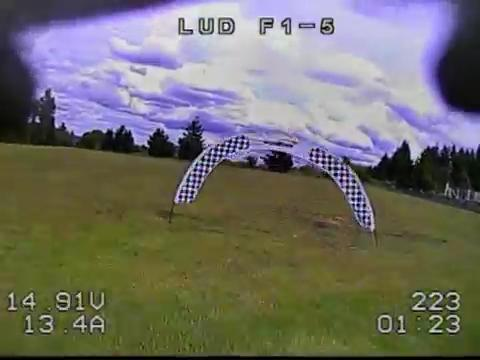gate: (174, 133, 377, 231)
